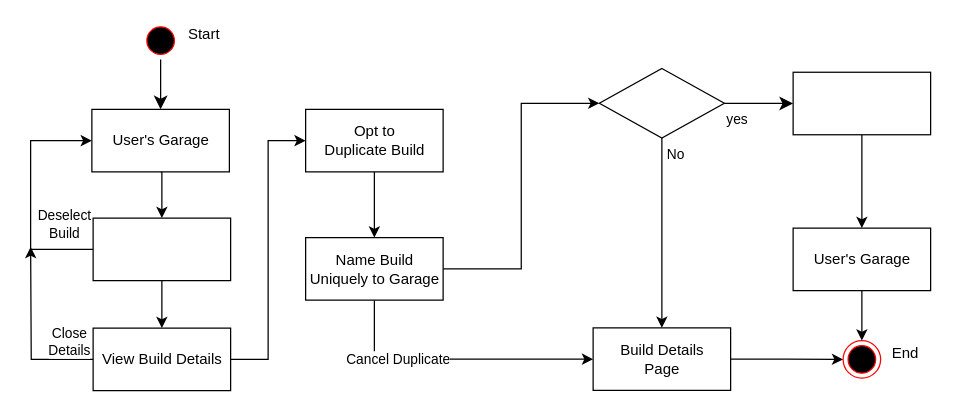
This 953x413 diagram has some shape labels left out. The shapes that lost their labels are listed below. From the top down, each one's centre as x and y in pixels, then its label:
[661,102]: "Are you sure?"
[861,103]: Add a copy of the Build to User's Garage
[161,249]: Select a Build
